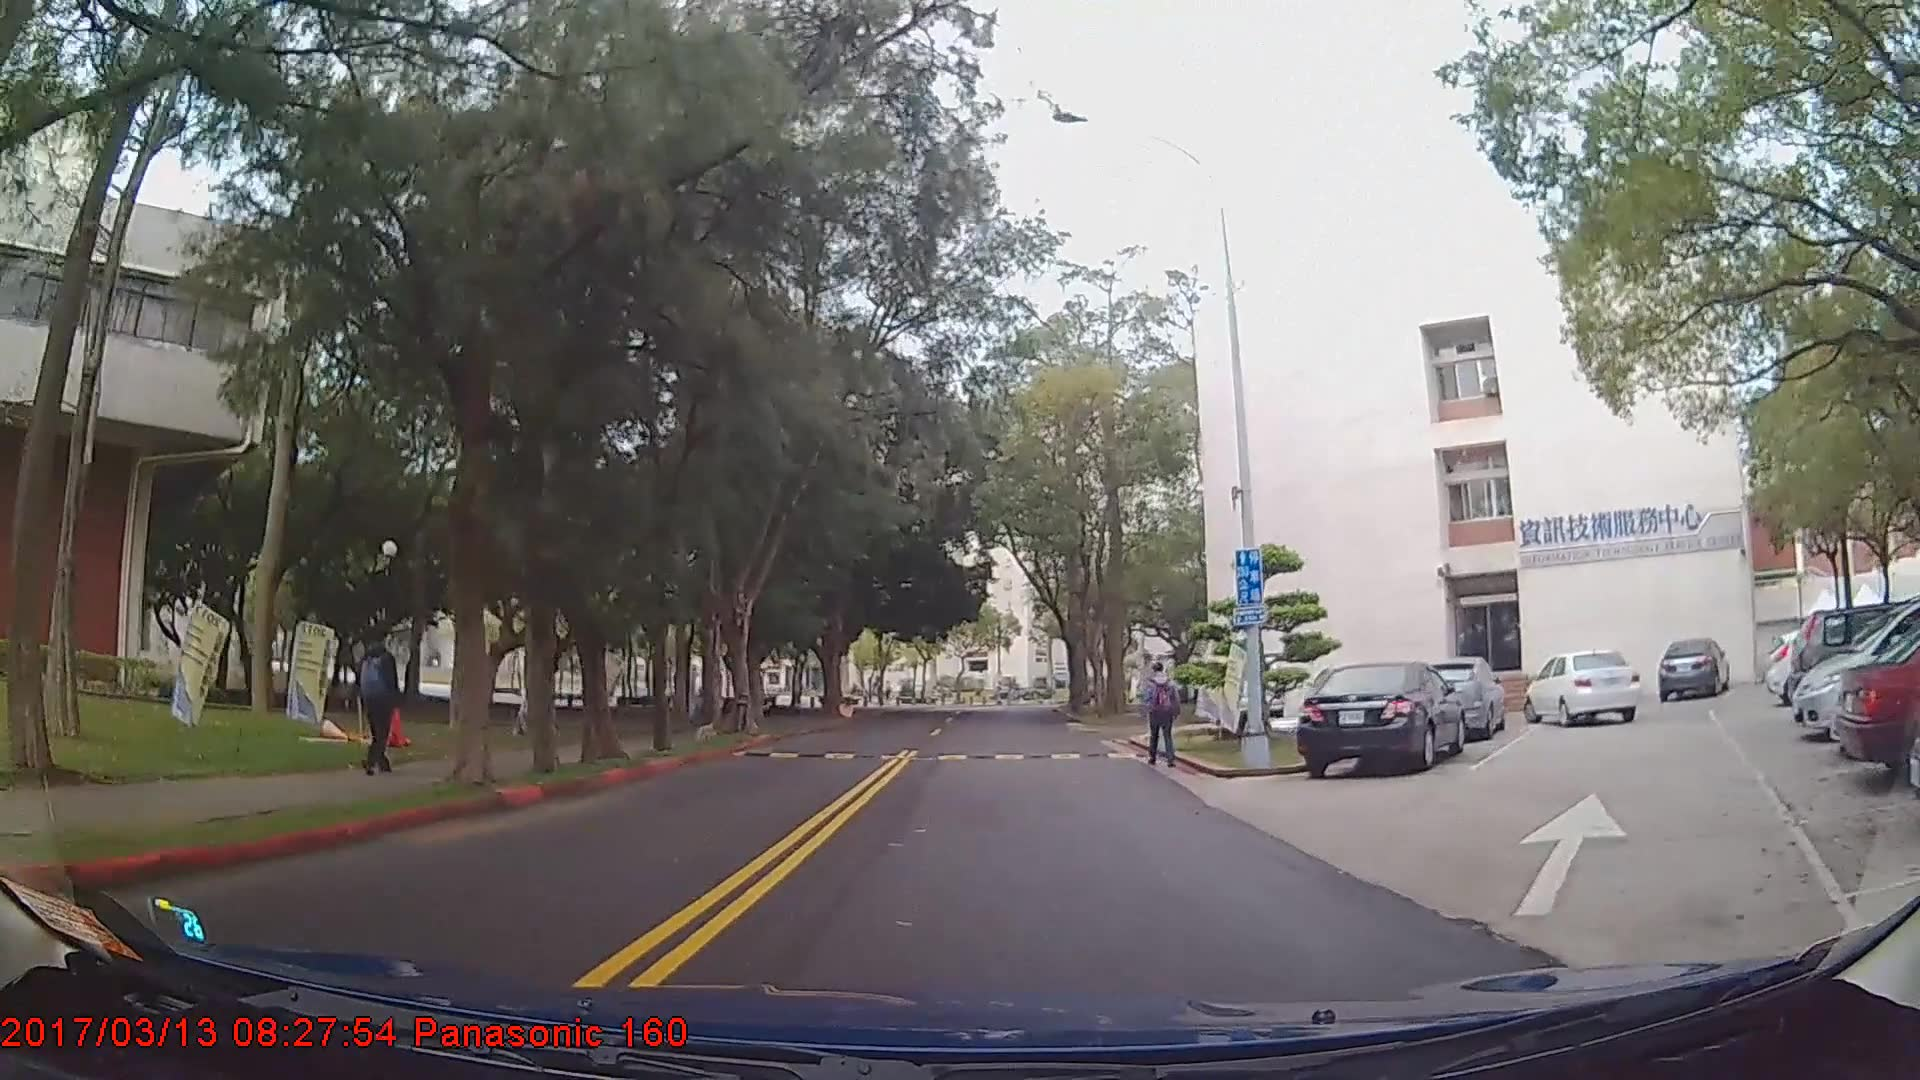pedestrian: (359, 629, 420, 783), (1146, 660, 1187, 775)
vehicle: (1295, 662, 1464, 781), (1793, 599, 1920, 739), (1792, 604, 1920, 721), (1524, 649, 1639, 727), (1408, 655, 1510, 740), (1656, 633, 1730, 699)
